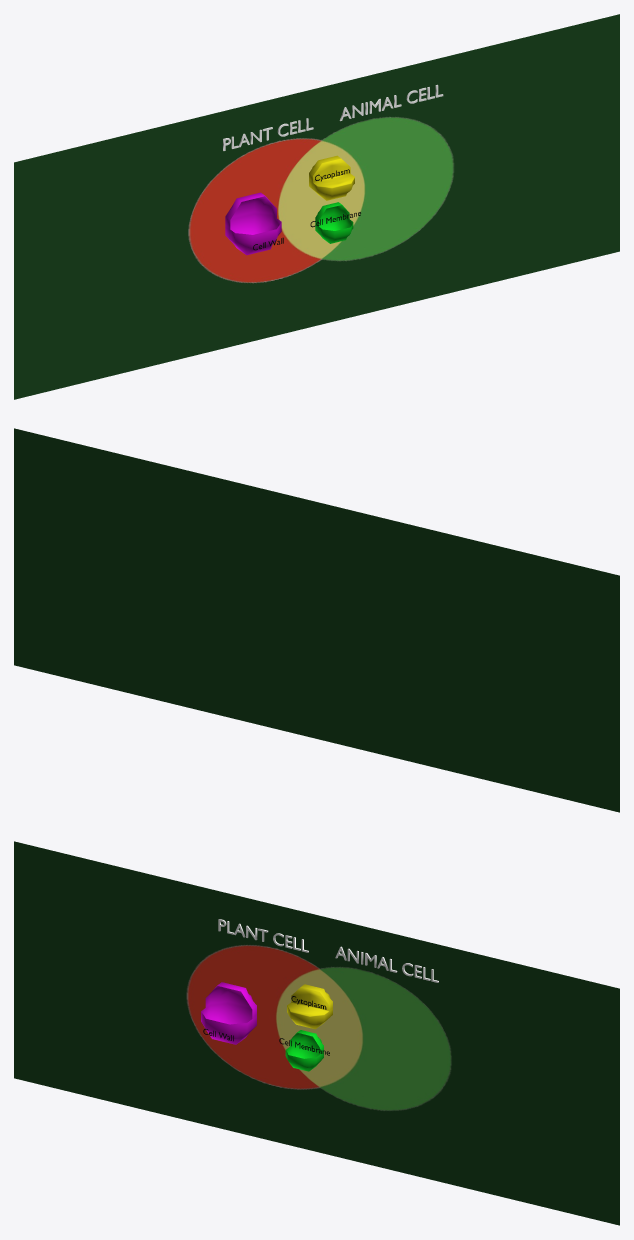
File: walls.gltf
3 renders of one model, top to bottom at view 1: azimuth 30°, elevation 25°; view 2: azimuth 150°, elevation 25°; view 3: azimuth 330°, elevation 25°, orthographic.
Parts seen in each view (by area): view 1: Plane.039, Plane.013, Outside, main, Outside.001, Text.009, Text.008; view 2: Plane.013; view 3: Plane.039, Plane.013, Outside, main, Outside.001, Text.009, Text.008.
Boxes of the visible parts, x1,y1,x2,y2 form: Plane.039: (120, 41, 523, 370); Plane.013: (14, 14, 619, 399); Outside: (225, 192, 281, 255); main: (309, 155, 354, 200); Outside.001: (315, 202, 353, 243); Text.009: (339, 84, 443, 121); Text.008: (223, 118, 313, 150); Plane.013: (14, 428, 619, 812); Plane.039: (118, 869, 521, 1198); Plane.013: (14, 841, 619, 1225); Outside: (201, 982, 256, 1044); main: (287, 984, 332, 1029); Outside.001: (285, 1030, 323, 1071); Text.009: (335, 946, 438, 982); Text.008: (218, 919, 308, 952).
Size of the model in its own units: 15.94 by 5.96 by 1.15.
10 materials, 1 textured.
